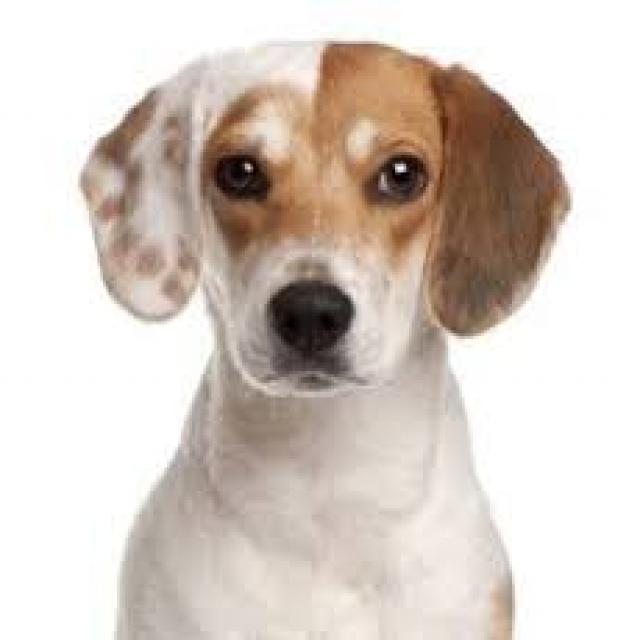Dog: (73, 32, 588, 640)
